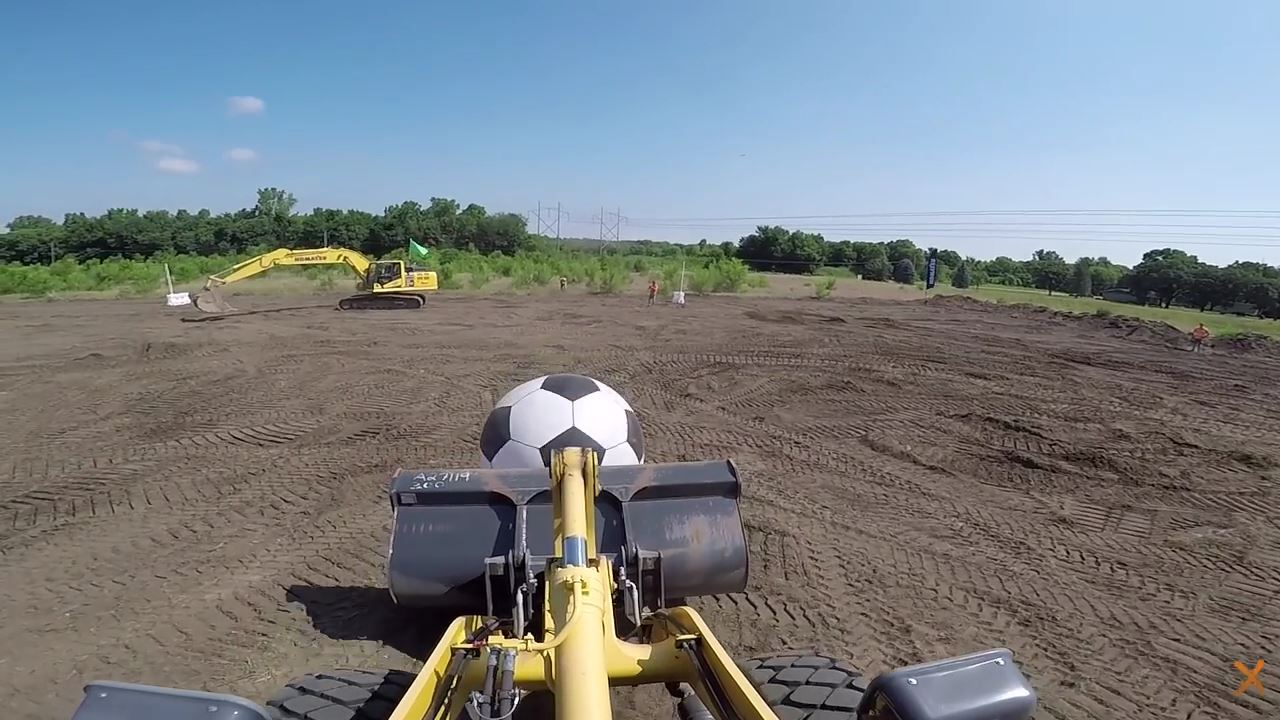con_eq: (70, 464, 1051, 718), (187, 239, 442, 311)
